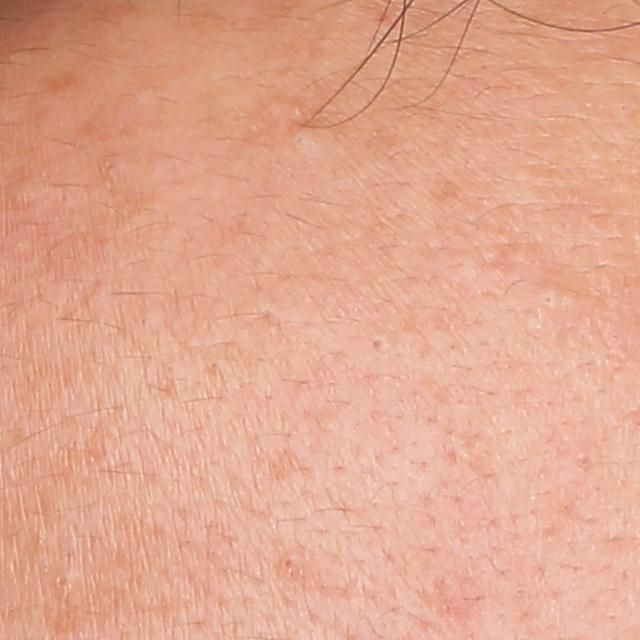comedo: (365, 330, 391, 357), (48, 569, 75, 592), (276, 550, 300, 574), (538, 287, 557, 308)
